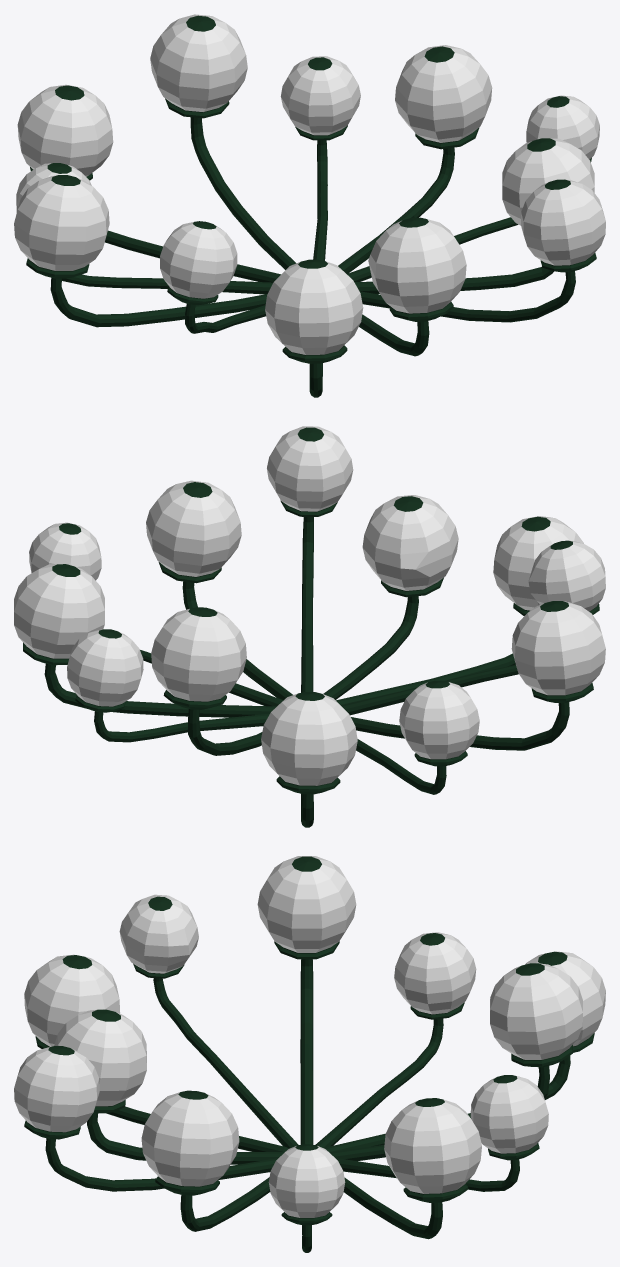
File: Underground_Mushroom_Chandelier_green.fbx
The picture shows the model from 3 angles, top to bottom: view 1: azimuth 30°, elevation 25°; view 2: azimuth 150°, elevation 25°; view 3: azimuth 270°, elevation 25°; orthographic projection. The views are drawn at different scales.
Parts seen in each view (by area): view 1: Mchandelier_green; view 2: Mchandelier_green; view 3: Mchandelier_green.
Part boxes in pixels (x1,y1,x2,y2): Mchandelier_green: (14,14,605,397); Mchandelier_green: (14,426,605,827); Mchandelier_green: (14,856,605,1252).
Size of the model in its own units: 390 by 127 by 347.
